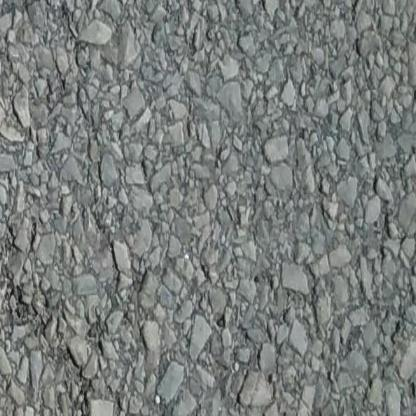Cracks: (0, 195, 98, 416), (0, 0, 84, 57)
